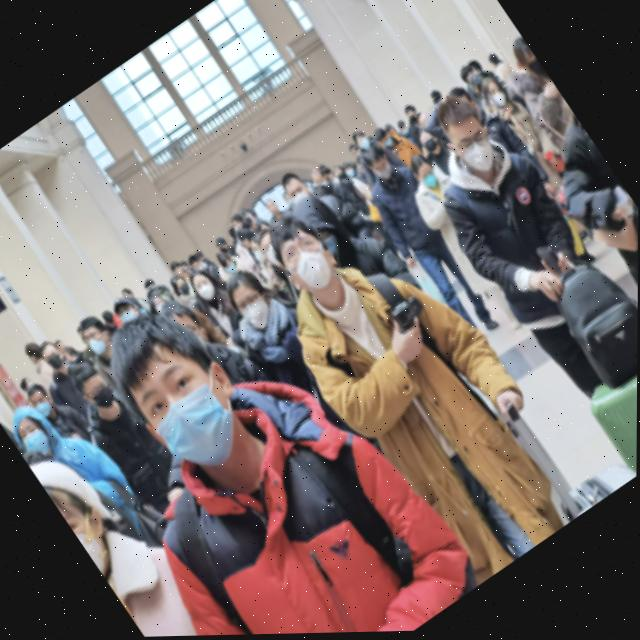Mask: (137, 358, 270, 491), (276, 233, 346, 305), (443, 117, 507, 185), (12, 410, 62, 465), (231, 282, 279, 333), (81, 372, 123, 418), (76, 315, 117, 362), (366, 149, 401, 187), (410, 158, 444, 196), (188, 269, 221, 307), (509, 44, 542, 80), (481, 81, 513, 117), (38, 344, 69, 376)
